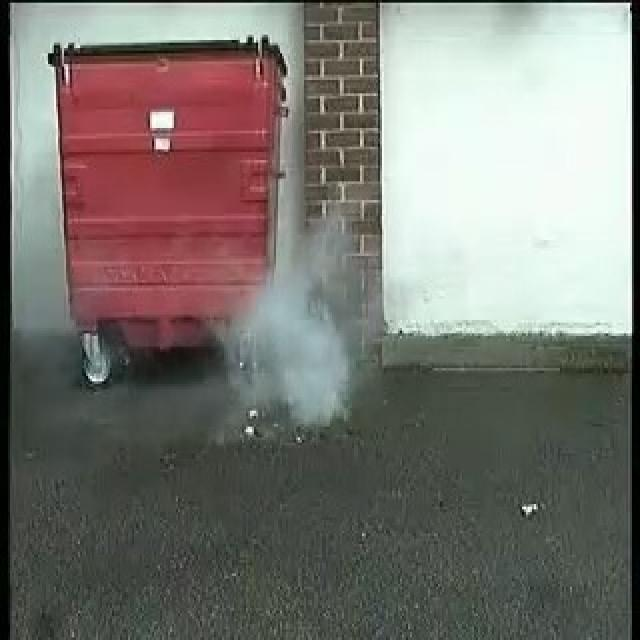smoke: (241, 203, 353, 430)
